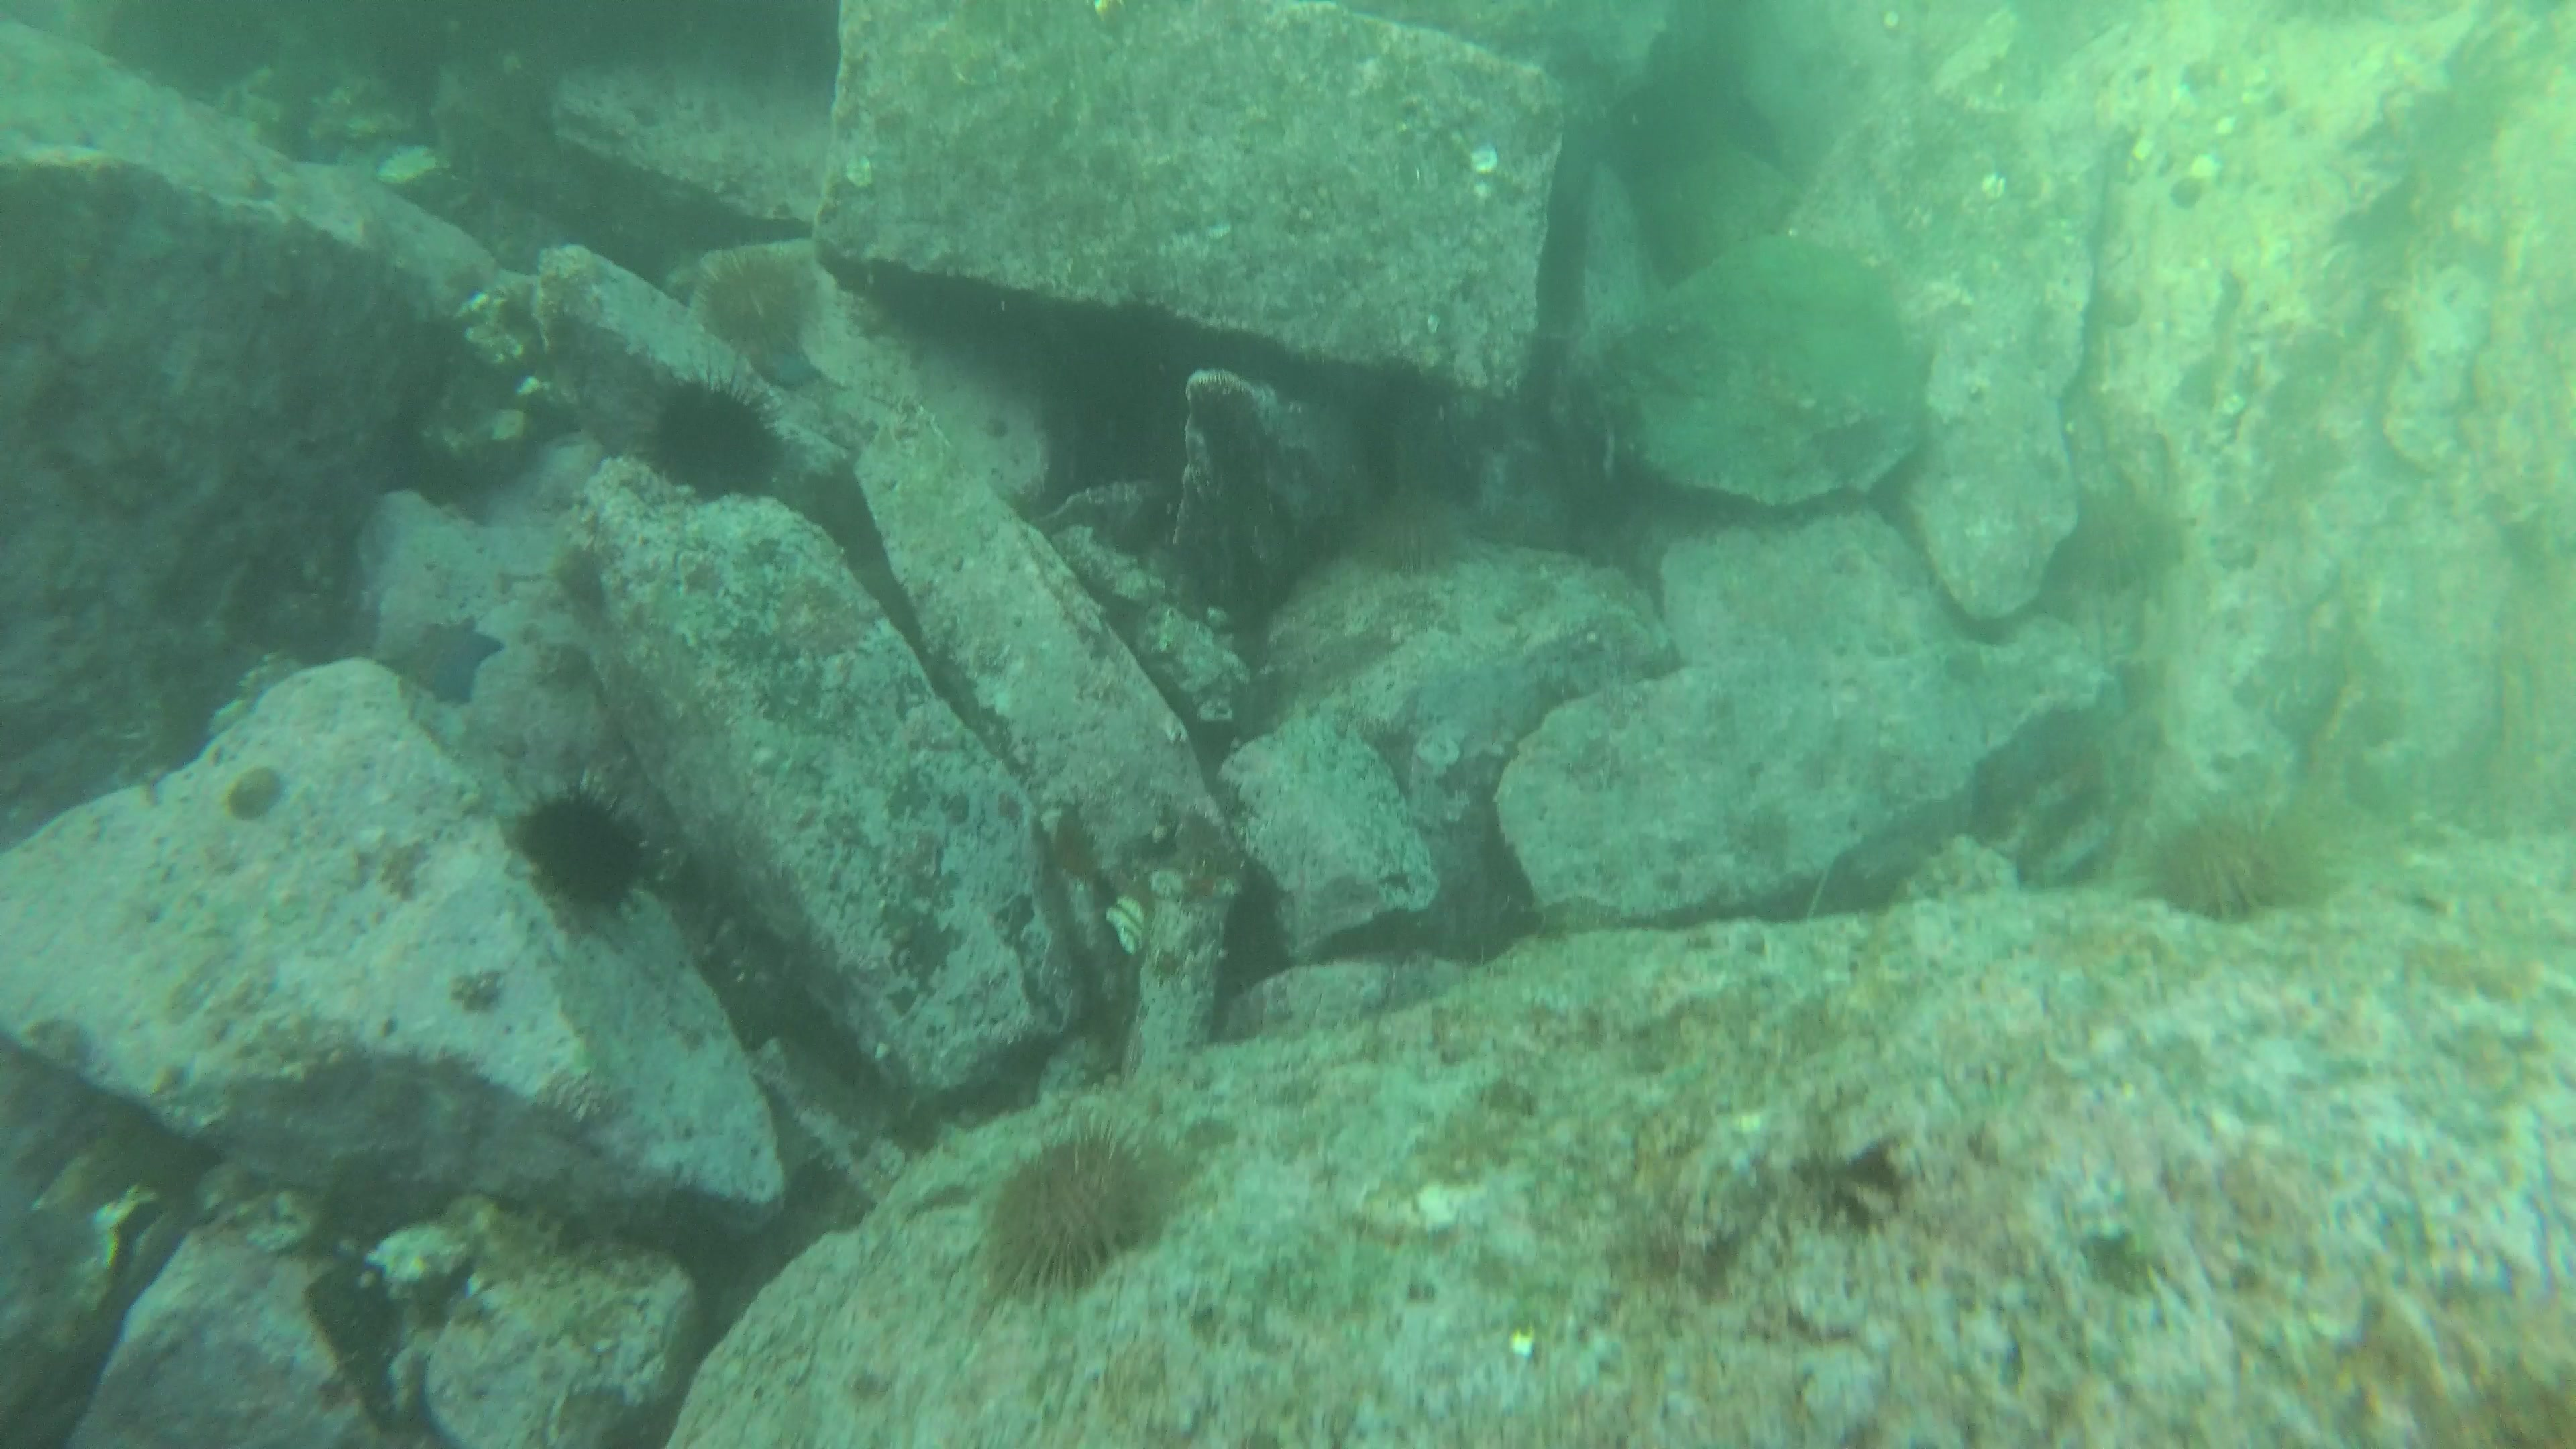echinus: (984, 1125, 1175, 1290), (2146, 805, 2334, 934), (633, 357, 794, 501), (502, 787, 658, 916), (683, 242, 816, 368), (1357, 479, 1490, 575), (2058, 485, 2166, 600)
starfish: (395, 607, 504, 695)
